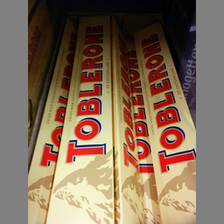chocolate: (53, 11, 116, 224), (135, 21, 198, 224)
